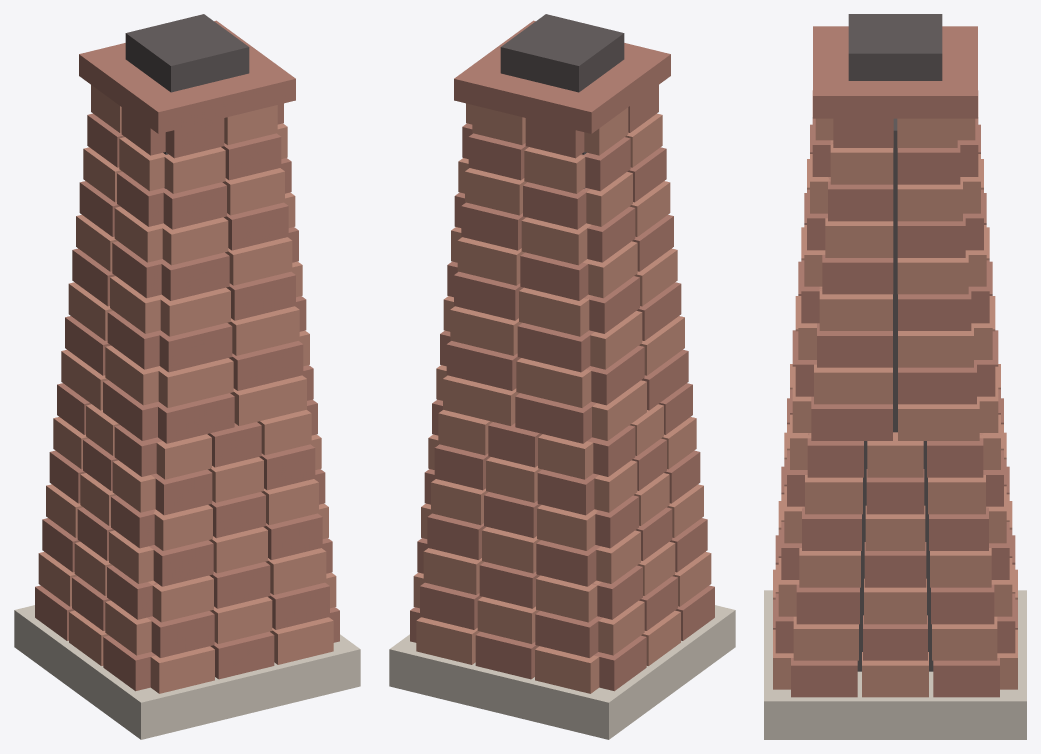
The model's file is chimney.glb.
The picture shows the model from 3 angles, left to right: view 1: azimuth 30°, elevation 25°; view 2: azimuth 150°, elevation 25°; view 3: azimuth 270°, elevation 25°; orthographic projection. The views are drawn at different scales.
Bounding box in the file's own units: 0.74 × 2.02 × 0.74.
